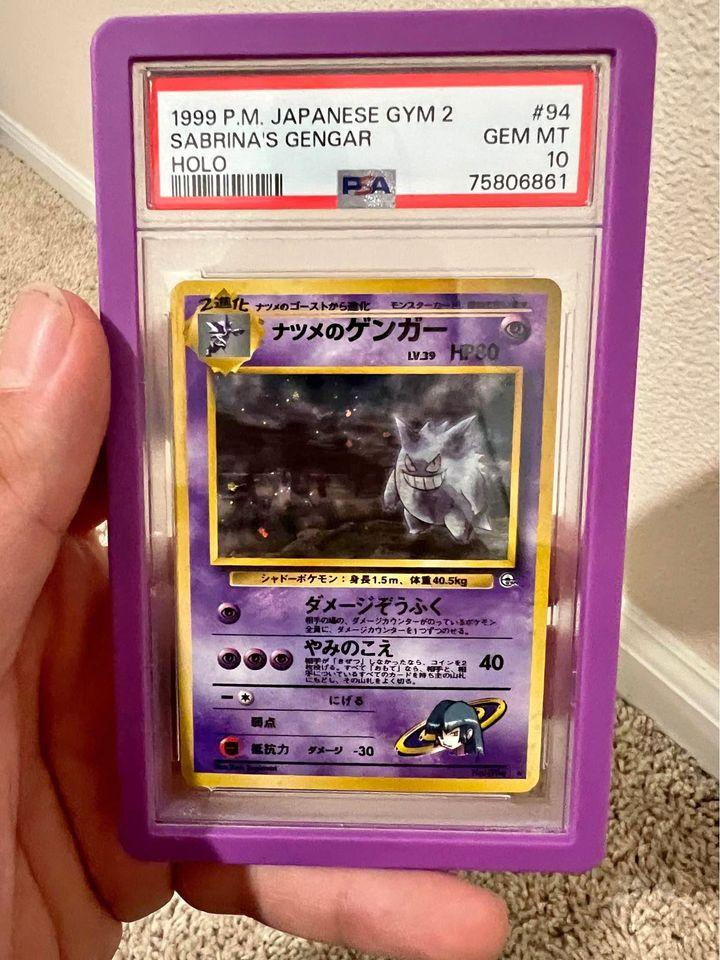card: (168, 275, 564, 794)
